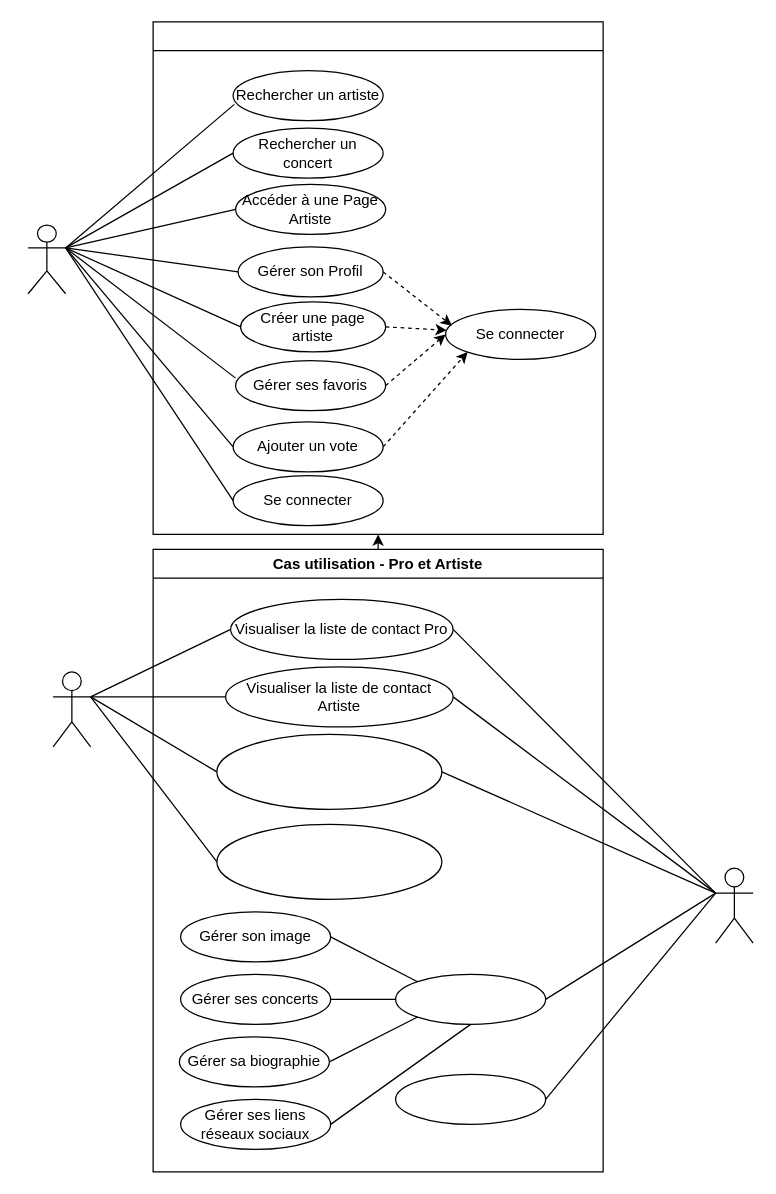
The diagram is 776 pixels wide and 1194 high, and some of its shapes have lost their labels. Each missing label, with the box of its shape:
Artiste: (714, 867, 753, 943)
Cas utilisation - Visiteur: (152, 21, 603, 534)
Choisir d'apparaitre sur la liste de contact: (216, 733, 442, 809)
Filter les artistes par nombre d'écoutes: (216, 823, 442, 899)
Modifier sa Page Artiste: (394, 973, 546, 1024)
Pro: (52, 671, 91, 747)
Visiteur: (27, 224, 66, 294)
Visualiser ses stats: (394, 1073, 546, 1124)
